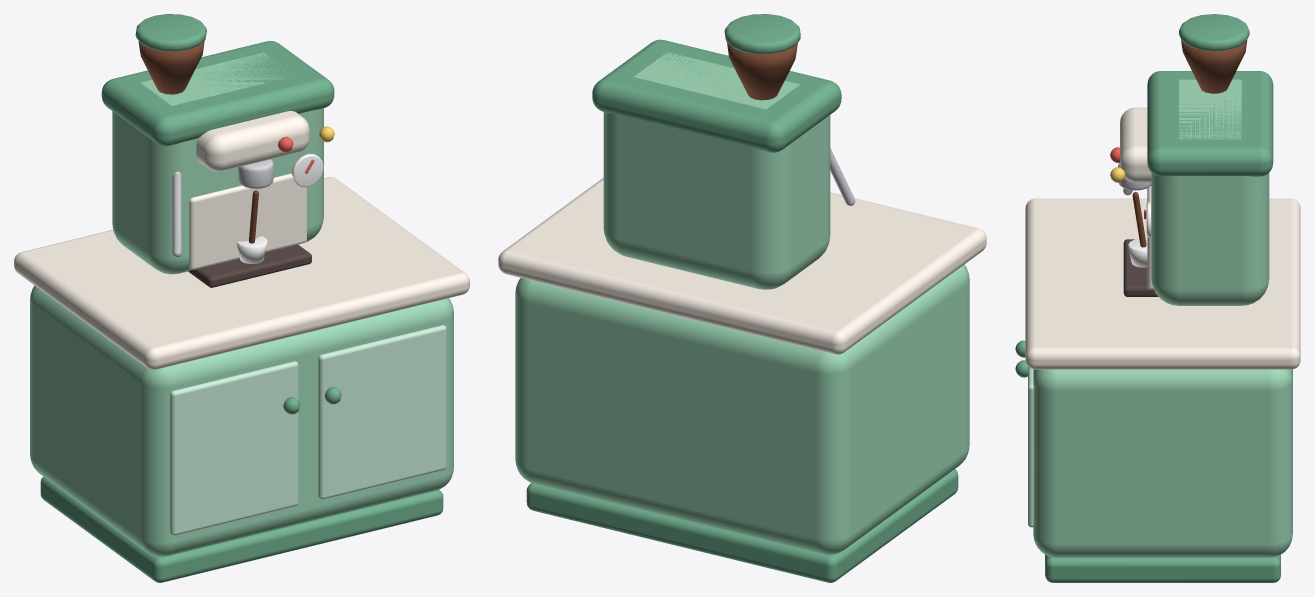
The model's file is station_coffee.glb.
3 views of the same model, side by side, from view 1: azimuth 30°, elevation 25°; view 2: azimuth 150°, elevation 25°; view 3: azimuth 270°, elevation 25° (orthographic). The views are drawn at different scales.
Parts seen in each view (by area): view 1: CoffeeMachine; view 2: CoffeeMachine; view 3: CoffeeMachine, Cooking.
Boxes of the visible parts, left/top/right/bottom form: CoffeeMachine: left=14, top=14, right=469, bottom=582; CoffeeMachine: left=498, top=14, right=986, bottom=582; CoffeeMachine: left=1015, top=14, right=1300, bottom=582; Cooking: left=1132, top=192, right=1146, bottom=247.
Size of the model in its own units: 0.94 by 1.31 by 0.726.
